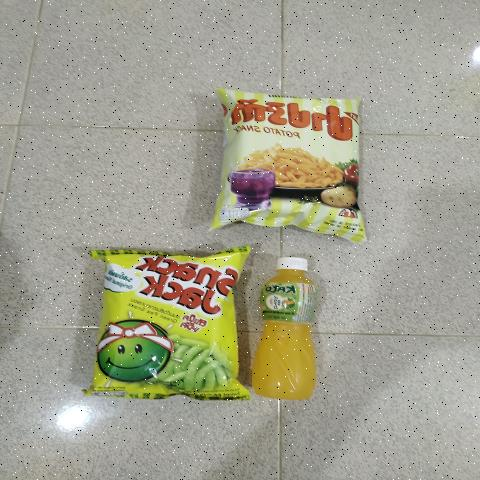paprika: (221, 99, 350, 221)
snack_jack: (107, 258, 236, 392)
